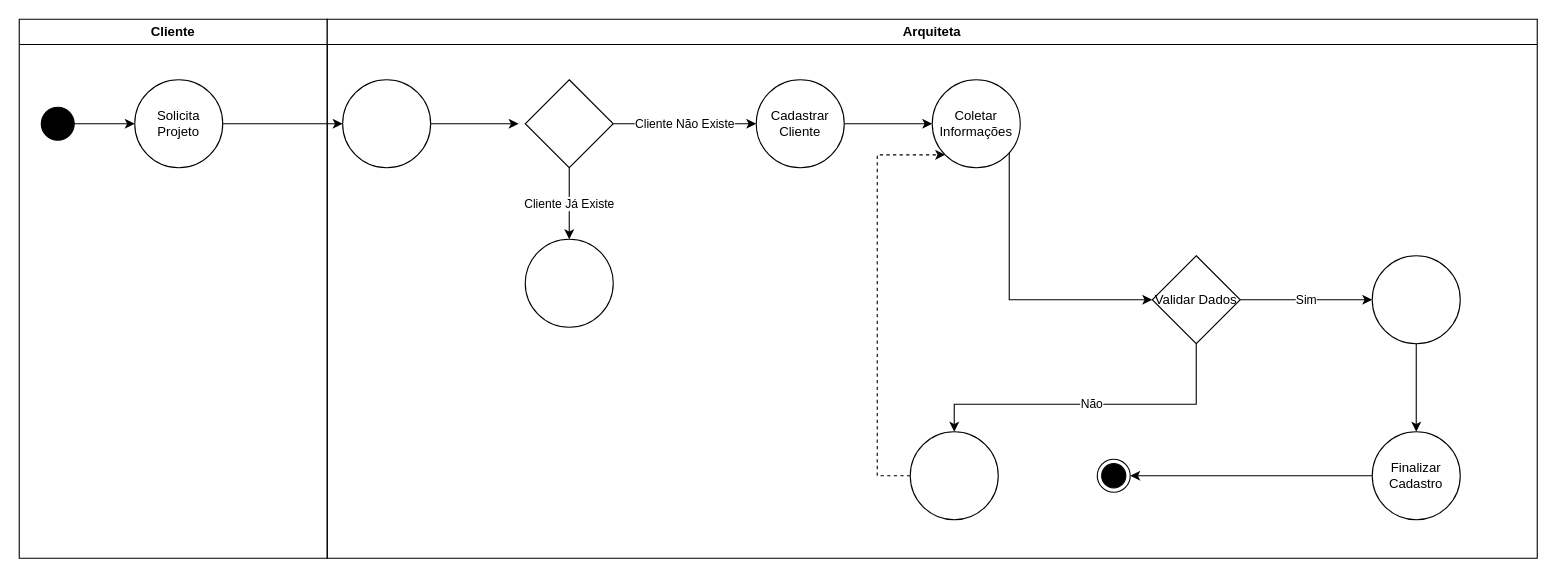
Some shapes in this 1557 by 578 pixel diagram are drawn without their labels. The shapes that lost their labels are listed below. From the top down, each one's centre as x and y in pixels, then its label:
point 386,123: Pesquisar Cliente
point 568,282: Selecionar Cliente
point 1415,299: Criar Registro
point 953,475: Notificar Erro
